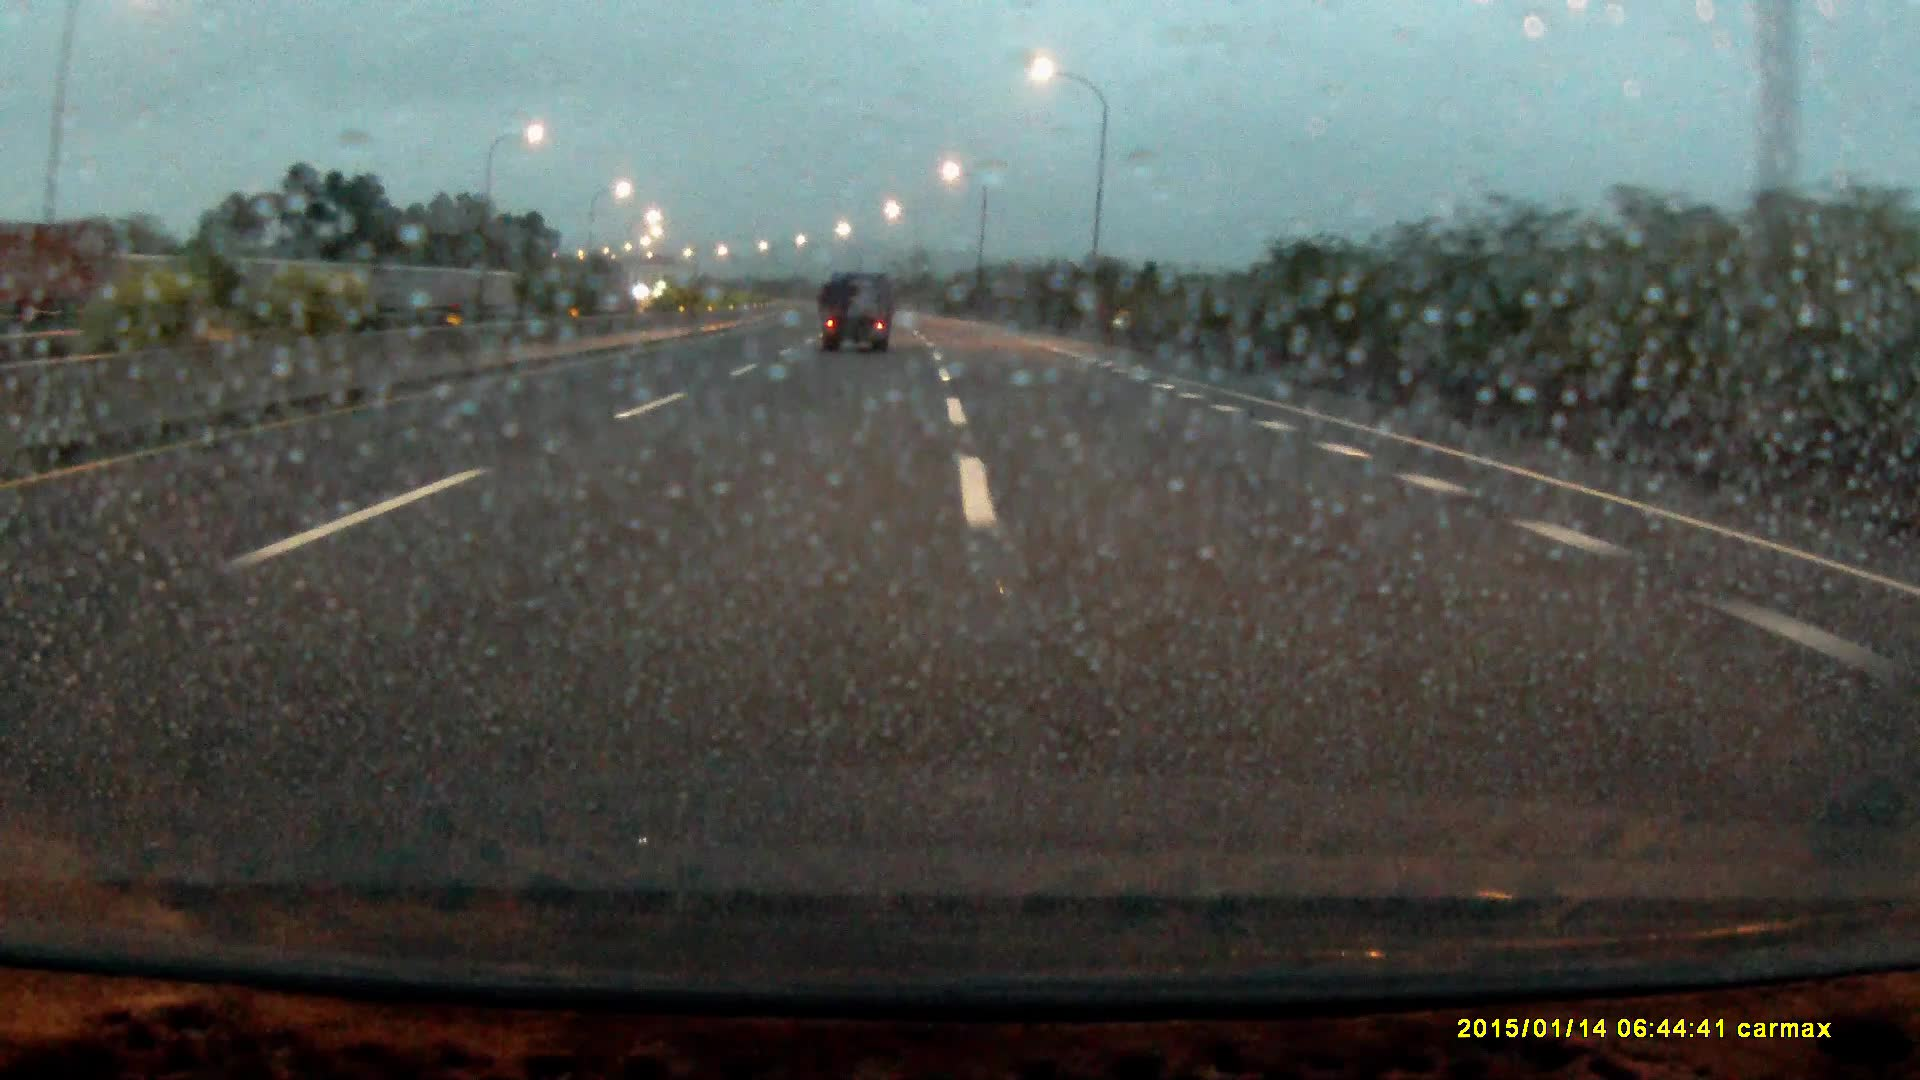vehicle: (4, 223, 135, 322), (819, 266, 894, 352)
